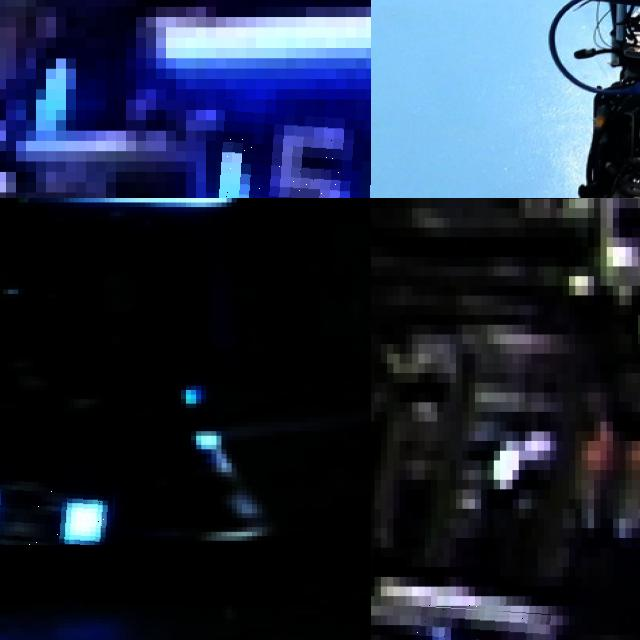B2: (415, 605, 553, 640)
B5: (216, 99, 371, 198)
Bs: (0, 467, 114, 545)
